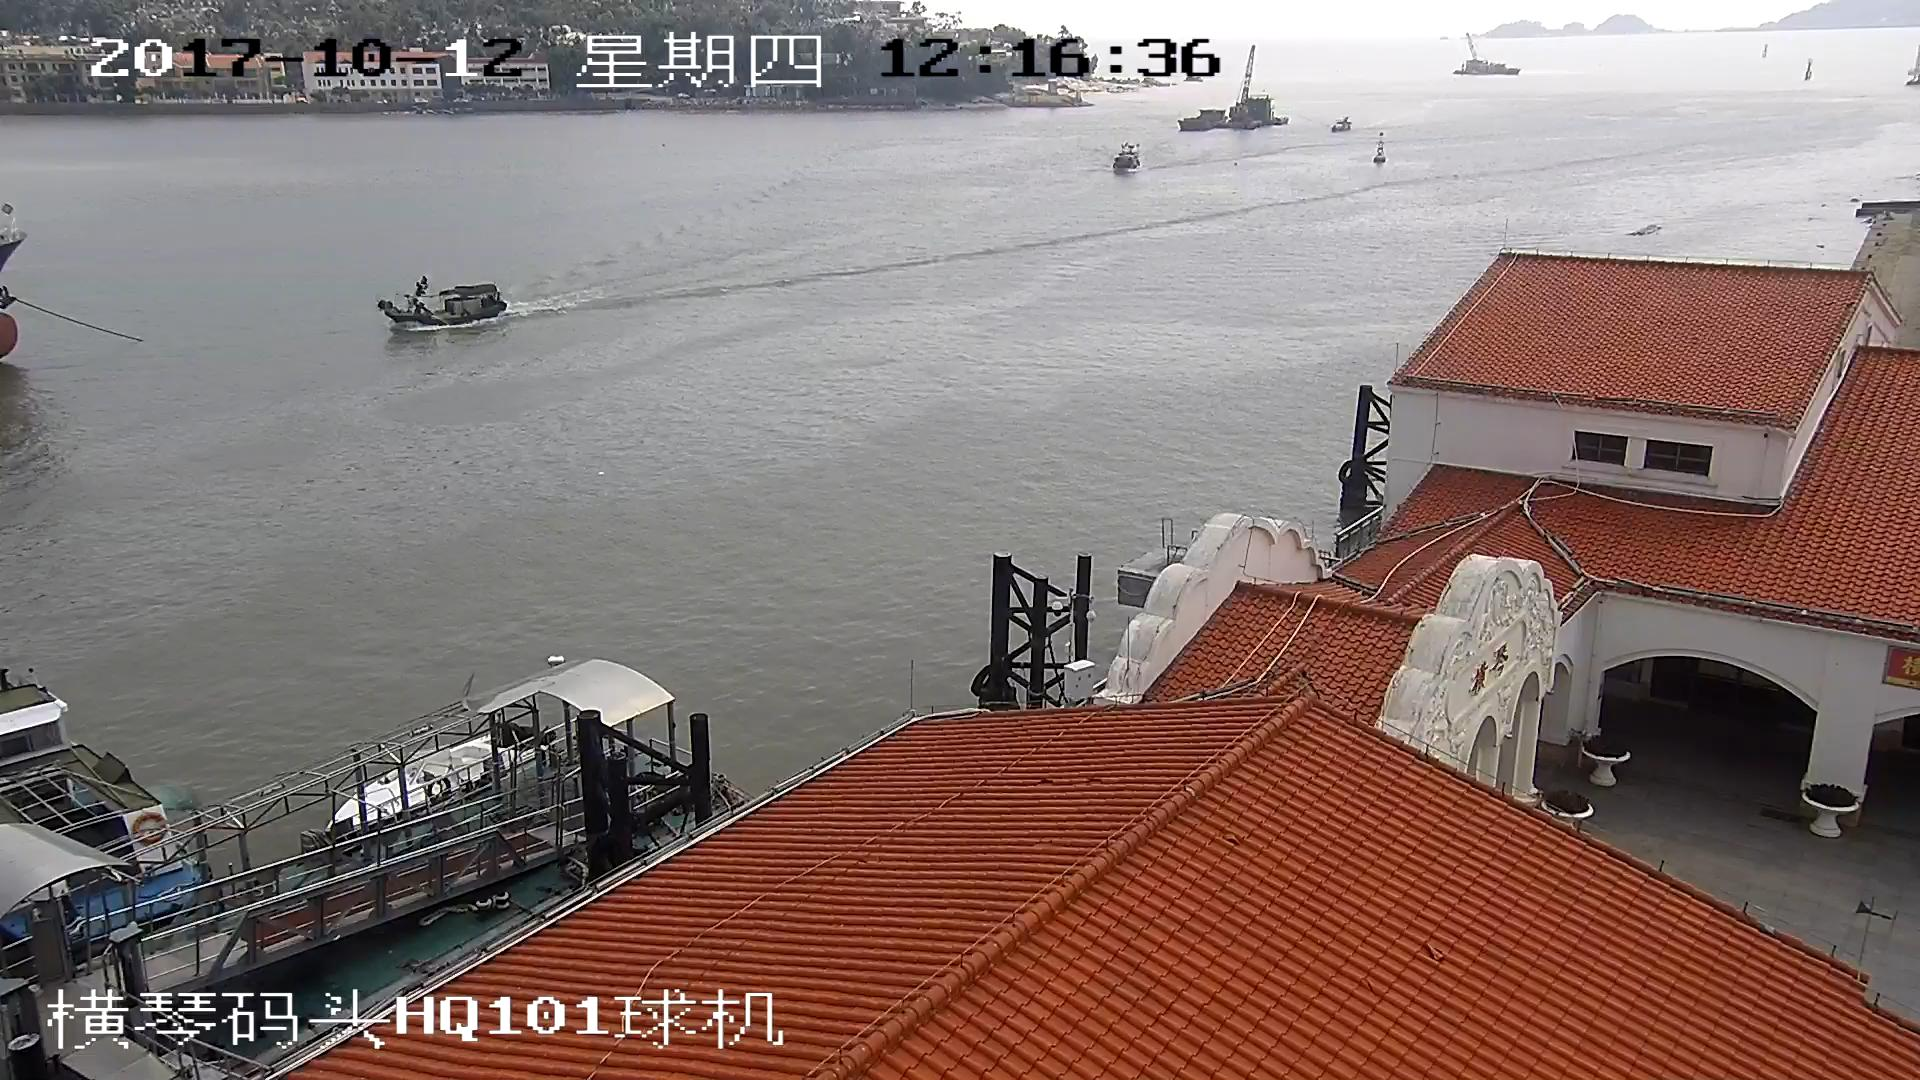fishing boat: (377, 281, 509, 324)
